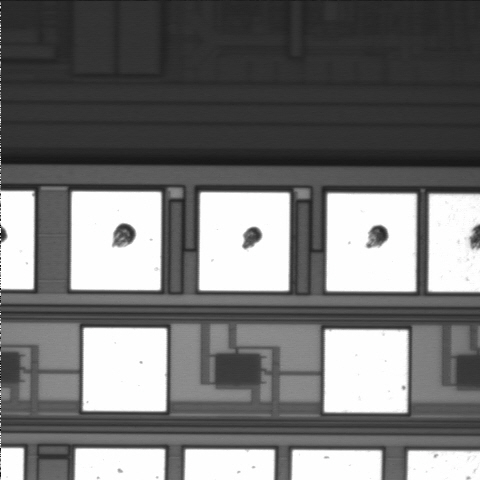pad: (199, 192, 290, 291), (326, 193, 416, 292), (71, 192, 161, 290), (83, 328, 167, 411), (324, 330, 408, 413)
